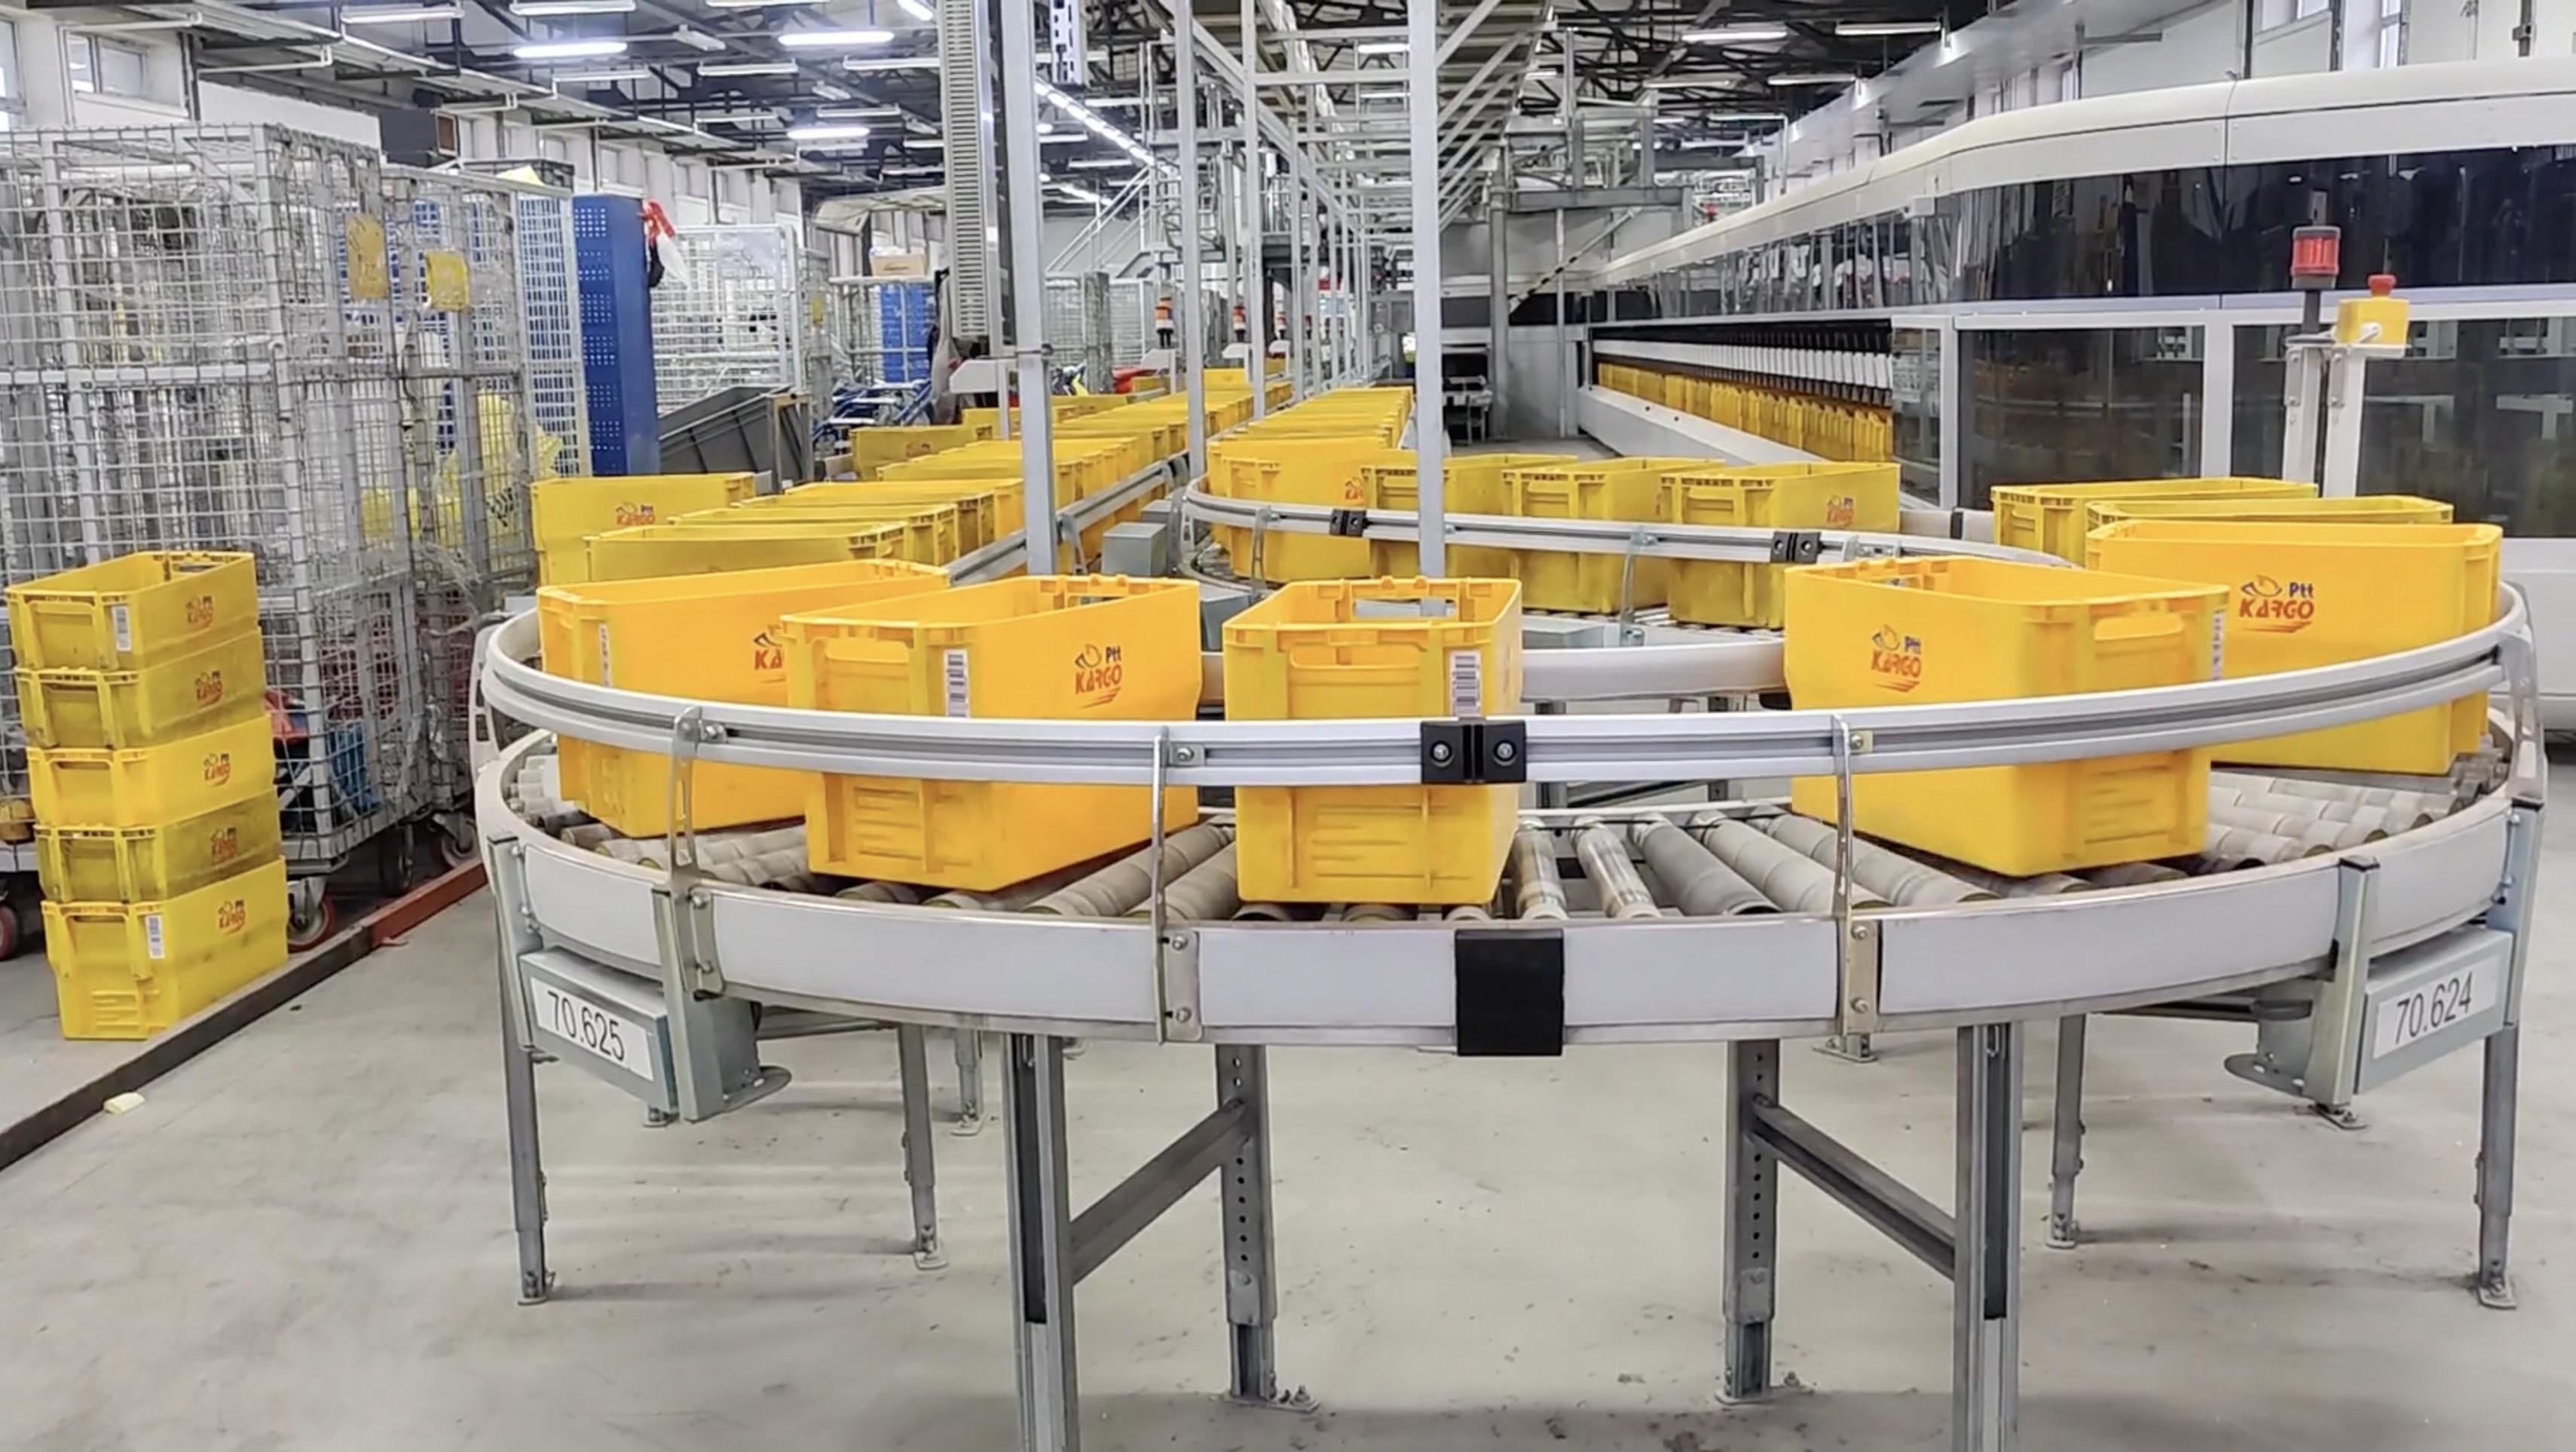Box: (1785, 552, 2231, 879), (778, 572, 1203, 898), (537, 553, 950, 843), (2087, 517, 2494, 782), (1220, 575, 1525, 913), (1663, 460, 1900, 633), (1506, 455, 1712, 612)
